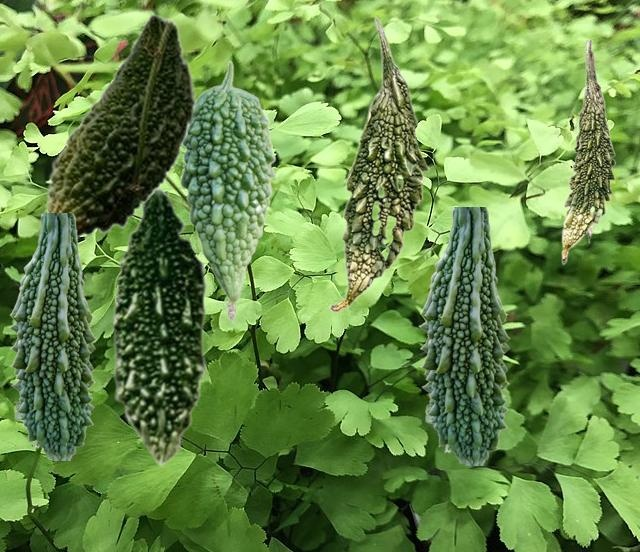ampalaya: (45, 13, 196, 237), (328, 15, 429, 311), (111, 187, 213, 467), (179, 60, 275, 322), (418, 207, 509, 464), (8, 213, 95, 459), (561, 40, 615, 264)
